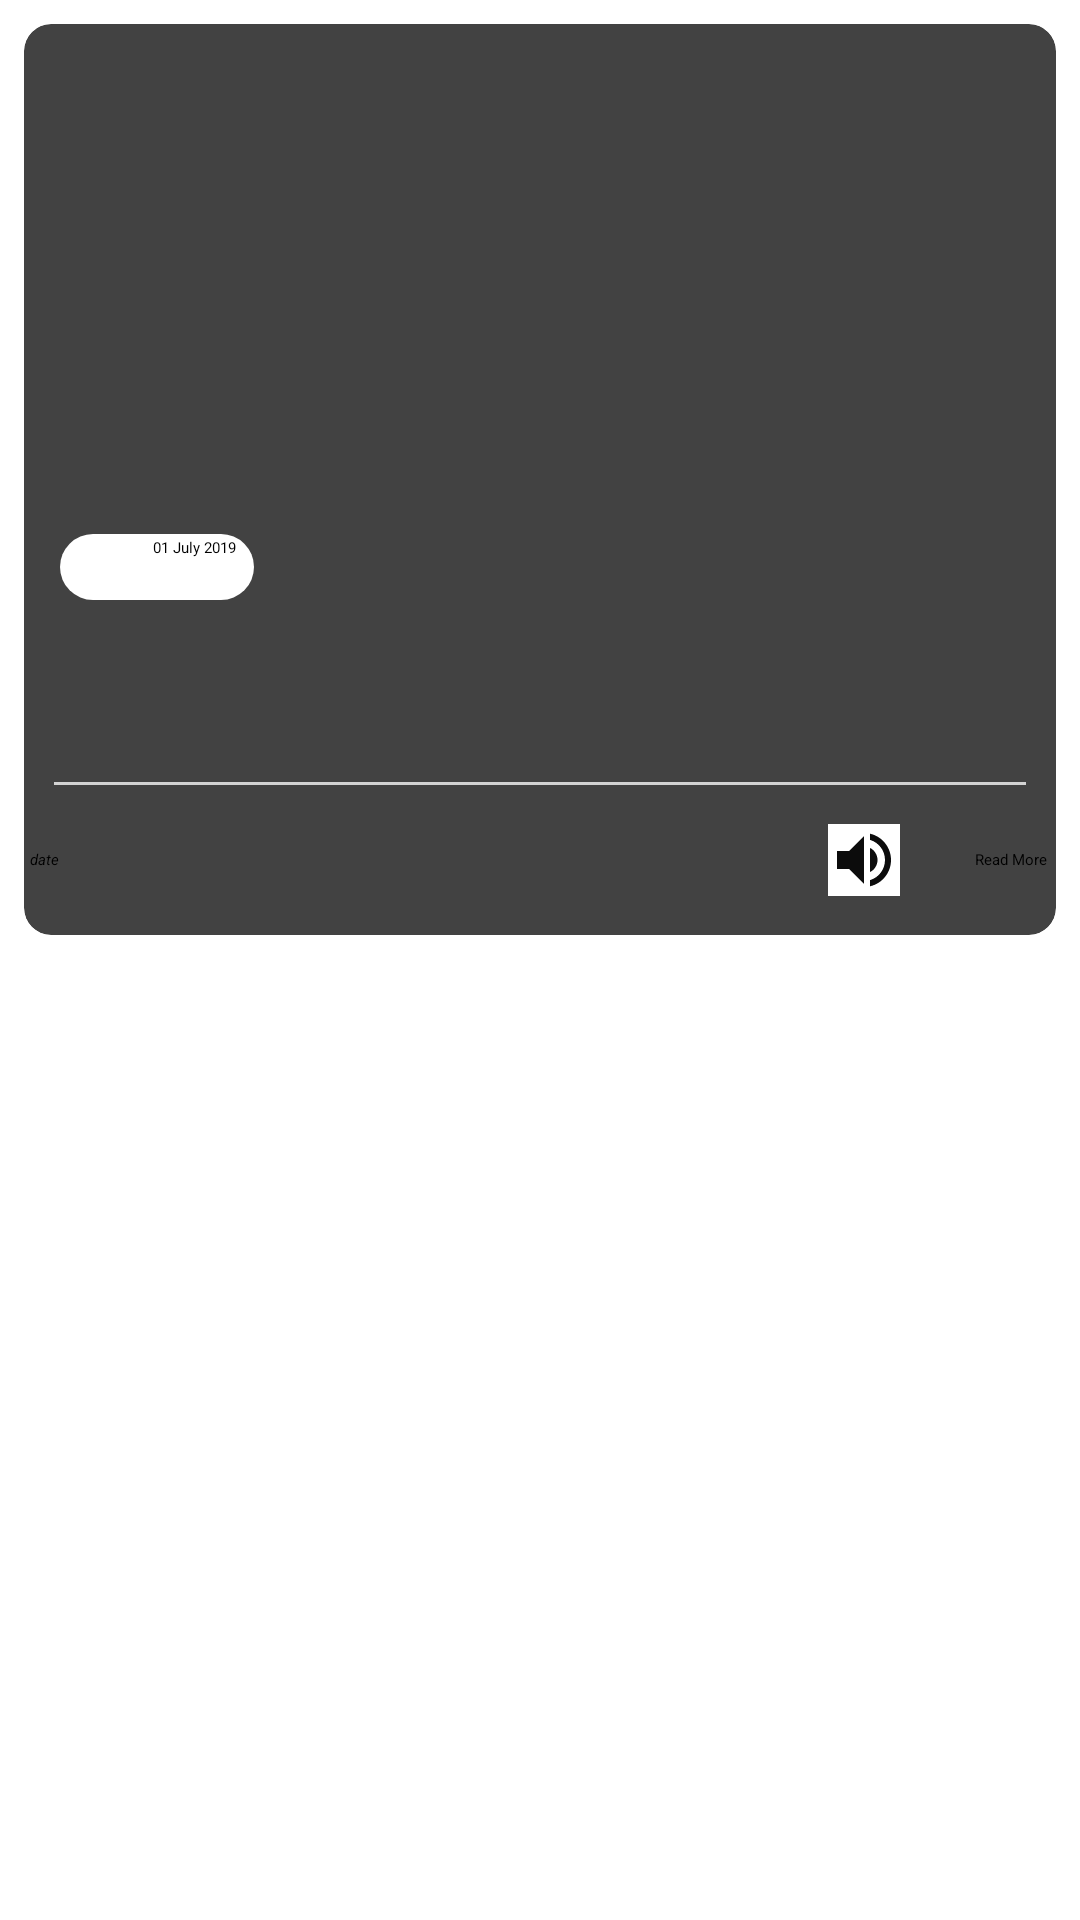

Point at icon controls on the screen. Image size 1080px x 1920px, points as (x,y).
volume up: (864,860)
